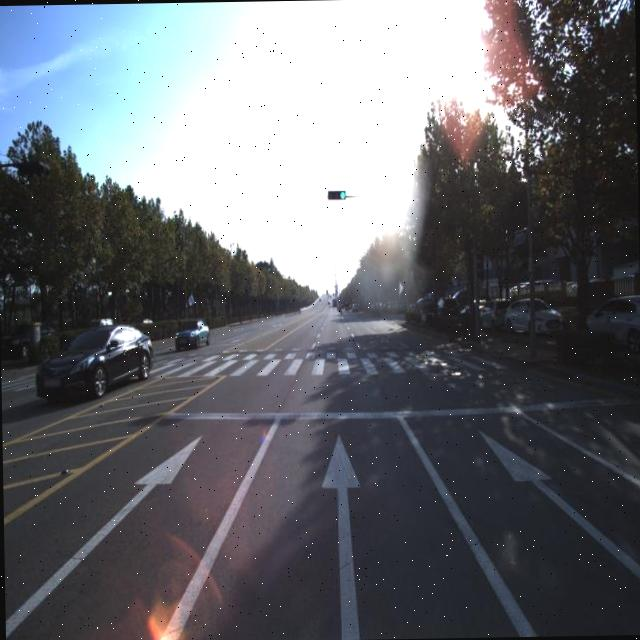crosswalk: (1, 348, 507, 392)
